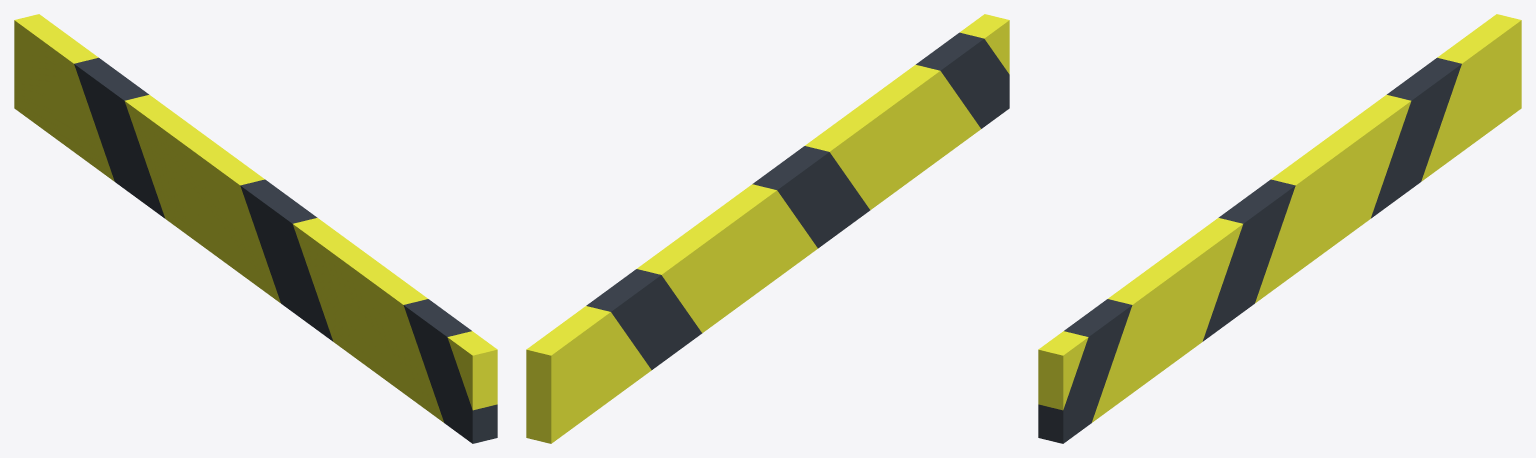
The model's file is Blocker.fbx.
The picture shows the model from 3 angles, left to right: view 1: azimuth 30°, elevation 25°; view 2: azimuth 150°, elevation 25°; view 3: azimuth 330°, elevation 25°; orthographic projection.
Parts seen in each view (by area): view 1: Blocker; view 2: Blocker; view 3: Blocker.
Boxes of the visible parts, x1,y1,x2,y2 form: Blocker: (14,14,497,443); Blocker: (526,14,1009,443); Blocker: (1038,14,1521,443).
Size of the model in its own units: 0.1322 by 0.4473 by 4.21.
